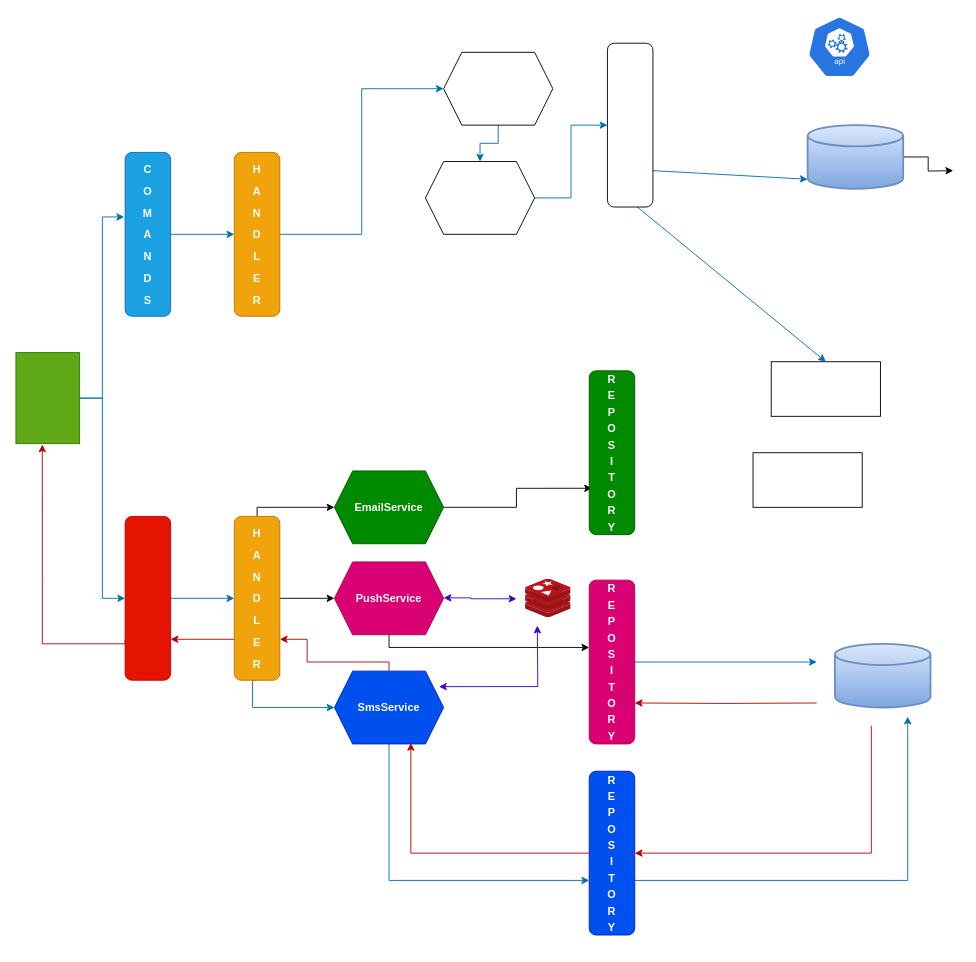
Image size: 976x962. Some labels were removed from this diagram. Each missing label, with the centre of its shape:
"EventsDB" goes at (x=855, y=156).
"NotificationDB" goes at (x=882, y=675).
"Q U E R I E S" goes at (x=147, y=598).
"REST API" goes at (x=47, y=398).
